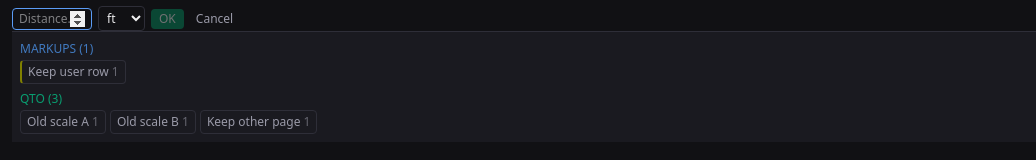
CalibrationInput annotation replacement freeze › non-demo awaits same-page DELETEs in array order, then POSTs and replaces only after success
The image size is (1036, 160).
Later steps or results of the test are not shown.
Type "12.5" into the number field with placeholder "Distance..." at (52, 18), box [12,8,92,30]
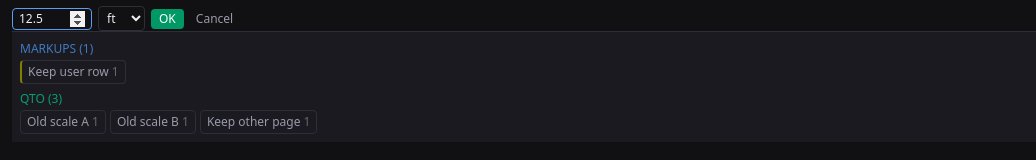
Select "m" in the dropdown at (122, 18), box [98,6,145,31]
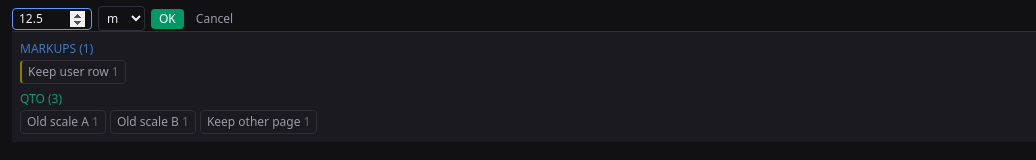
Click the button "OK" at (167, 18), box [151,8,184,28]
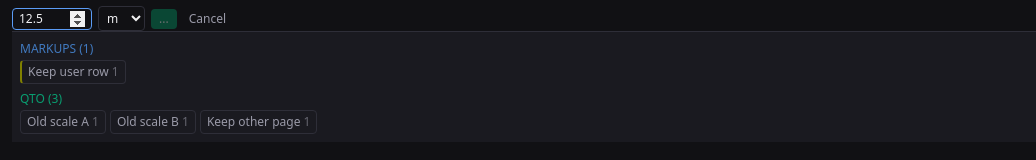
Check: the button "Old scale B 1" is shown, box [110,110,196,134]
Check: the button "..." is disabled, box [151,8,177,28]
